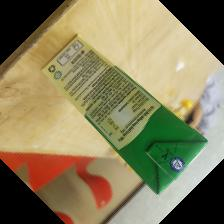NSPN_Hop: (40, 33, 210, 196)
